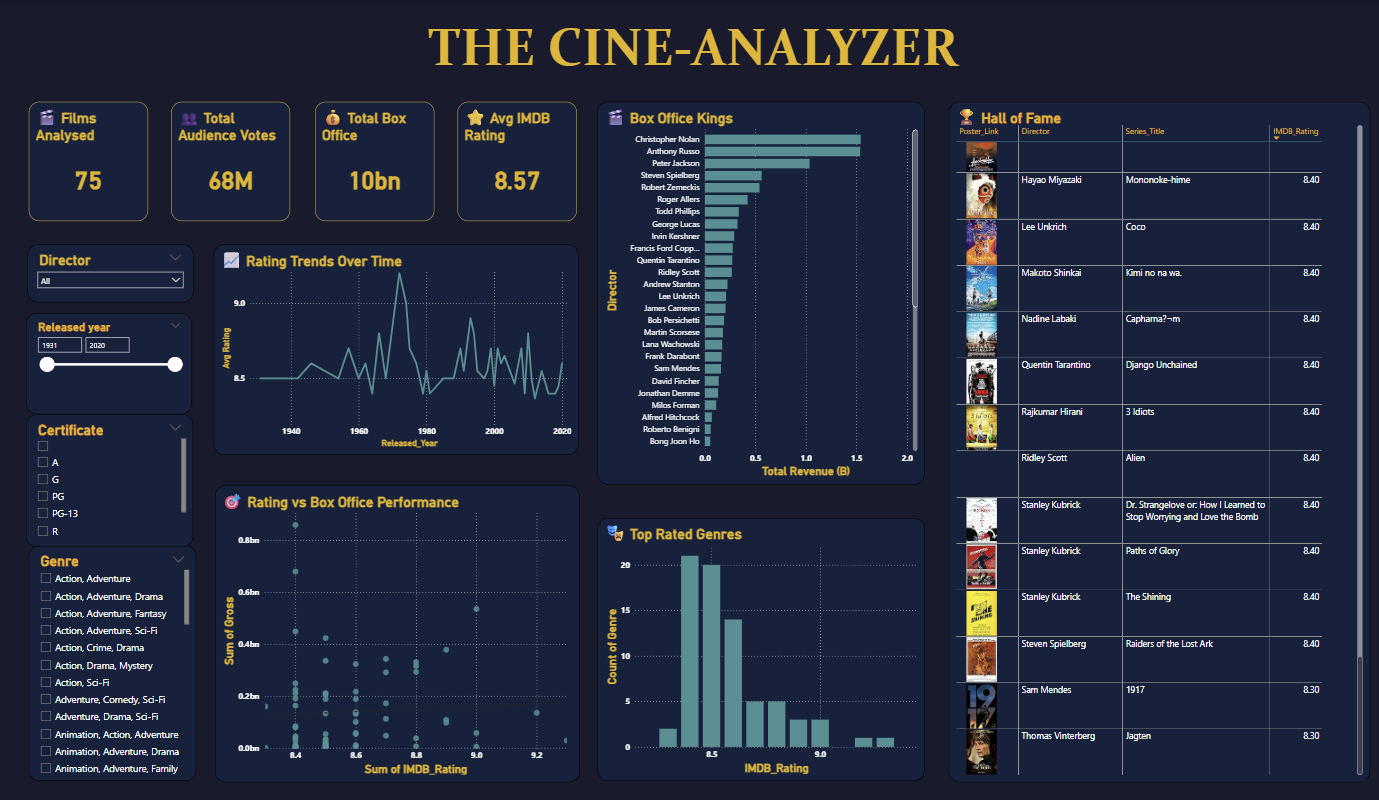

The page's visual inventory and layout, read from the dashboard file:
{"tool":"powerbi","page":{"name":"Page 1","canvas":[2340,1360],"ordinal":0},"visuals":[{"type":"card","title":"🎬 Films Analysed","fields":{"Values":["movies imdb_top_1000.Total Movies"]},"box":[48.9,173.6,200.5,200.5],"z":0,"group":"g1"},{"type":"slicer","fields":{"Values":["movies imdb_top_1000.Released_Year"]},"box":[44.6,529.3,278.5,170.1],"z":0},{"type":"card","title":"⭐ Avg IMDB Rating","fields":{"Values":["movies imdb_top_1000.Avg Rating"]},"box":[770.4,173.6,200.5,200.5],"z":1000,"group":"g1"},{"type":"slicer","fields":{"Values":["movies imdb_top_1000.Genre"]},"box":[48.9,922,281.3,396.2],"z":1000},{"type":"card","title":"💰 Total Box Office","fields":{"Values":["Sum(movies imdb_top_1000.Gross)"]},"box":[530.7,173.6,200.5,200.5],"z":2000,"group":"g1"},{"type":"slicer","fields":{"Values":["movies imdb_top_1000.Certificate"]},"box":[44.6,699.4,280.6,223.2],"z":2000},{"type":"card","title":"👥 Total Audience Votes","fields":{"Values":["Sum(movies imdb_top_1000.No_of_Votes)"]},"box":[288.6,173.6,200,200.5],"z":3000,"group":"g1"},{"type":"slicer","fields":{"Values":["movies imdb_top_1000.Director"]},"box":[46.5,413.3,278.8,97.8],"z":3000},{"type":"lineChart","title":"📈 Rating Trends Over Time","fields":{"Category":["movies imdb_top_1000.Released_Year"],"Y":["movies imdb_top_1000.Avg Rating"]},"box":[359.5,413.3,613.9,354.6],"z":4000},{"type":"clusteredBarChart","title":"🎬 Box Office Kings","fields":{"Category":["movies imdb_top_1000.Director"],"Y":["movies imdb_top_1000.Total Revenue (B)"]},"box":[1005.5,174.3,550.6,644.1],"z":5000},{"type":"lineClusteredColumnComboChart","title":"🎭 Top Rated Genres","fields":{"Category":["movies imdb_top_1000.IMDB_Rating"],"Y":["CountNonNull(movies imdb_top_1000.Genre)"]},"box":[1005.2,875.5,550.3,442.7],"z":6000},{"type":"scatterChart","title":"🎯 Rating vs Box Office Performance","fields":{"X":["Sum(movies imdb_top_1000.IMDB_Rating)"],"Y":["Sum(movies imdb_top_1000.Gross)"],"Category":["movies imdb_top_1000.Series_Title"]},"box":[362,819.3,613.9,498.9],"z":7000},{"type":"tableEx","title":"🏆 Hall of Fame","fields":{"Values":["movies imdb_top_1000.Poster_Link","movies imdb_top_1000.Director","movies imdb_top_1000.Series_Title","movies imdb_top_1000.IMDB_Rating"]},"box":[1595.9,174.4,708.6,1144.6],"z":8000},{"type":"textbox","box":[0,23.4,2340.4,110.5],"z":9000},{"type":"group","id":"g1","title":"Group 1","box":[48.9,173.6,922,200.5],"z":10000}]}

Visuals, with their boxes in screenshot pixels (x1, y1, x2, y2), scaled from the page's 2340x1360 canvas onto the 1379x800 screenshot:
"🎬 Films Analysed" card: bbox(29, 102, 147, 220)
slicer - movies imdb_top_1000.Released_Year: bbox(26, 311, 190, 411)
"⭐ Avg IMDB Rating" card: bbox(454, 102, 572, 220)
slicer - movies imdb_top_1000.Genre: bbox(29, 542, 195, 775)
"💰 Total Box Office" card: bbox(313, 102, 431, 220)
slicer - movies imdb_top_1000.Certificate: bbox(26, 411, 192, 543)
"👥 Total Audience Votes" card: bbox(170, 102, 288, 220)
slicer - movies imdb_top_1000.Director: bbox(27, 243, 192, 301)
"📈 Rating Trends Over Time" lineChart: bbox(212, 243, 574, 452)
"🎬 Box Office Kings" clusteredBarChart: bbox(593, 103, 917, 481)
"🎭 Top Rated Genres" lineClusteredColumnComboChart: bbox(592, 515, 917, 775)
"🎯 Rating vs Box Office Performance" scatterChart: bbox(213, 482, 575, 775)
"🏆 Hall of Fame" tableEx: bbox(940, 103, 1358, 776)
textbox: bbox(0, 14, 1378, 79)
"Group 1" group: bbox(29, 102, 572, 220)
